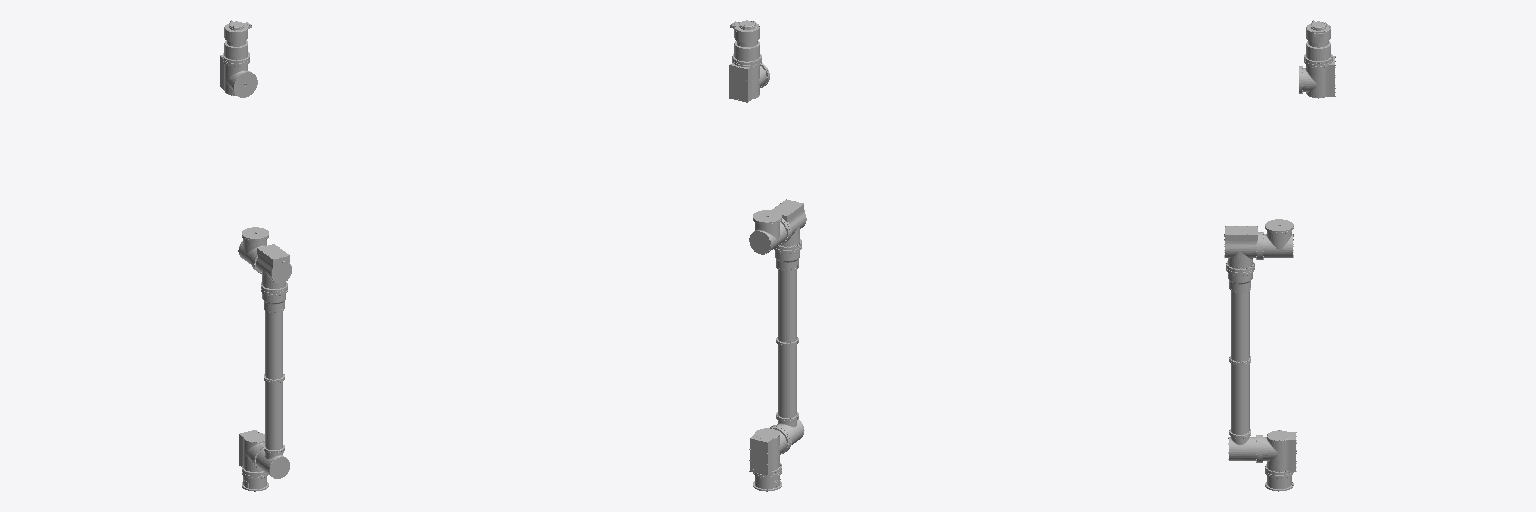
The robot description file, URDF, robot "KARM_EQM_CI":
<?xml version="1.0" encoding="utf-8"?>
<robot
  name="KARM_EQM_CI">
  <link name="world"/>
  <link
    name="base_link">
    <inertial>
      <origin
        xyz="-0.000591742275268121 -1.02012674185592E-10 0.0535383880868271"
        rpy="0 0 0" />
      <mass
        value="1.88184673348816" />
      <inertia
        ixx="0.00301244"
        ixy="0.00000000"
        ixz="0.00003346"
        iyy="0.00307717"
        iyz="0.00000000"
        izz="0.00420587" />
    </inertial>
    <visual>
      <origin
        xyz="0 0 0"
        rpy="0 0 0" />
      <geometry>
        <mesh
          filename="meshes/base_link.STL" />
      </geometry>
      <material
        name="">
        <color
          rgba="0.752941176470588 0.752941176470588 0.752941176470588 1" />
      </material>
    </visual>
    <collision>
      <origin
        xyz="0 0 0"
        rpy="0 0 0" />
      <geometry>
        <mesh
          filename="meshes/base_link.STL" />
      </geometry>
    </collision>
  </link>
  <link
    name="link1">
    <inertial>
      <origin
        xyz="-0.00018376 0.01320390 0.08155943"
        rpy="0 0 0" />
      <mass
        value="3.89927946847723" />
      <inertia
        ixx="0.02231887"
        ixy="0.00007515"
        ixz="0.00000458"
        iyy="0.01564646"
        iyz="0.00207988"
        izz="0.01525124" />
    </inertial>
    <visual>
      <origin
        xyz="0 0 0"
        rpy="0 0 0" />
      <geometry>
        <mesh
          filename="meshes/link1.STL" />
      </geometry>
      <material
        name="">
        <color
          rgba="0.752941176470588 0.752941176470588 0.752941176470588 1" />
      </material>
    </visual>
    <collision>
      <origin
        xyz="0 0 0"
        rpy="0 0 0" />
      <geometry>
        <mesh
          filename="meshes/link1.STL" />
      </geometry>
    </collision>
  </link>

  <link
    name="link2">
    <inertial>
      <origin
        xyz="0.456230697446304 7.05549804171151E-06 -0.0795407500329696"
        rpy="0 0 0" />
      <mass
        value="6.81815692996918" />
      <inertia
        ixx="0.01935641"
        ixy="0.00001065"
        ixz="-0.04808877"
        iyy="1.10200053"
        iyz="-0.00000028"
        izz="1.09700645" />
    </inertial>
    <visual>
      <origin
        xyz="0 0 0"
        rpy="0 0 0" />
      <geometry>
        <mesh
          filename="meshes/link2.STL" />
      </geometry>
      <material
        name="">
        <color
          rgba="0.752941176470588 0.752941176470588 0.752941176470588 1" />
      </material>
    </visual>
    <collision>
      <origin
        xyz="0 0 0"
        rpy="0 0 0" />
      <geometry>
        <mesh
          filename="meshes/link2.STL" />
      </geometry>
    </collision>
  </link>

  <link
    name="link3">
    <inertial>
      <origin
        xyz="-0.000226694330859439 -0.020921459624334 0.0905541182561733"
        rpy="0 0 0" />
      <mass
        value="3.88158998402123" />
      <inertia
        ixx="0.02300827"
        ixy="-0.00000994"
        ixz="-0.00007047"
        iyy="0.01797761"
        iyz="-0.00183015"
        izz="0.01369294" />
    </inertial>
    <visual>
      <origin
        xyz="0 0 0"
        rpy="0 0 0" />
      <geometry>
        <mesh
          filename="meshes/link3.STL" />
      </geometry>
      <material
        name="">
        <color
          rgba="0.752941176470588 0.752941176470588 0.752941176470588 1" />
      </material>
    </visual>
    <collision>
      <origin
        xyz="0 0 0"
        rpy="0 0 0" />
      <geometry>
        <mesh
          filename="meshes/link3.STL" />
      </geometry>
    </collision>
  </link>

  <link
    name="link4">
    <inertial>
      <origin
        xyz="0.0366928030010996 8.67952688967757E-08 -0.0682677736060728"
        rpy="0 0 0" />
      <mass
        value="3.80331860238697" />
      <inertia
        ixx="0.01256680"
        ixy="0.00000000"
        ixz="-0.00373077"
        iyy="0.01830578"
        iyz="0.00000000"
        izz="0.01426496" />
    </inertial>
    <visual>
      <origin
        xyz="0 0 0"
        rpy="0 0 0" />
      <geometry>
        <mesh
          filename="meshes/link4.STL" />
      </geometry>
      <material
        name="">
        <color
          rgba="0.752941176470588 0.752941176470588 0.752941176470588 1" />
      </material>
    </visual>
    <collision>
      <origin
        xyz="0 0 0"
        rpy="0 0 0" />
      <geometry>
        <mesh
          filename="meshes/link4.STL" />
      </geometry>
    </collision>
  </link>

  <link
    name="link5">
    <inertial>
      <origin
        xyz="0.000279666071933103 -0.0124604168307705 0.465622107218107"
        rpy="0 0 0" />
      <mass
        value="7.89770667143695" />
      <inertia
        ixx="0.72487102"
        ixy="0.00003467"
        ixz="-0.00048232"
        iyy="0.71723683"
        iyz="-0.03161062"
        izz="0.02532082" />
    </inertial>
    <visual>
      <origin
        xyz="0 0 0"
        rpy="0 0 0" />
      <geometry>
        <mesh
          filename="meshes/link5.STL" />
      </geometry>
      <material
        name="">
        <color
          rgba="0.752941176470588 0.752941176470588 0.752941176470588 1" />
      </material>
    </visual>
    <collision>
      <origin
        xyz="0 0 0"
        rpy="0 0 0" />
      <geometry>
        <mesh
          filename="meshes/link5.STL" />
      </geometry>
    </collision>
  </link>

  <link
    name="link6">
    <inertial>
      <origin
        xyz="0.03011107362379 -0.000225912685904172 0.0813060077503088"
        rpy="0 0 0" />
      <mass
        value="3.89927946847463" />
      <inertia
        ixx="0.01546330"
        ixy="0.00000029"
        ixz="0.00213129"
        iyy="0.02260225"
        iyz="-0.00006365"
        izz="0.01584475" />
    </inertial>
    <visual>
      <origin
        xyz="0 0 0"
        rpy="0 0 0" />
      <geometry>
        <mesh
          filename="meshes/link6.STL" />
      </geometry>
      <material
        name="">
        <color
          rgba="0.752941176470588 0.752941176470588 0.752941176470588 1" />
      </material>
    </visual>
    <collision>
      <origin
        xyz="0 0 0"
        rpy="0 0 0" />
      <geometry>
        <mesh
          filename="meshes/link6.STL" />
      </geometry>
    </collision>
  </link>

  <link
    name="link7">
    <inertial>
      <origin
        xyz="-1.03271284620634E-05 -9.44322398055419E-12 0.0329117576927667"
        rpy="0 0 0" />
      <mass
        value="1.88782431928023" />
      <inertia
        ixx="0.00297961"
        ixy="0.00000000"
        ixz="0.00000043"
        iyy="0.00297973"
        iyz="0.00000000"
        izz="0.00388977897747818" />
    </inertial>
    <visual>
      <origin
        xyz="0 0 0"
        rpy="0 0 0" />
      <geometry>
        <mesh
          filename="meshes/link7.STL" />
      </geometry>
      <material
        name="">
        <color
          rgba="0.752941176470588 0.752941176470588 0.752941176470588 1" />
      </material>
    </visual>
    <collision>
      <origin
        xyz="0 0 0"
        rpy="0 0 0" />
      <geometry>
        <mesh
          filename="meshes/link7.STL" />
      </geometry>
    </collision>
  </link>

  <link
    name="FT">
    <inertial>
      <origin
        xyz="0 0 0.015"
        rpy="0 0 0" />
      <mass
        value="0.20000000" />
      <inertia
        ixx="0.00005684"
        ixy="0.00000000"
        ixz="0.00000000"
        iyy="0.00005684"
        iyz="0.00000000"
        izz="0.00008409" />
    </inertial>
    <visual>
      <origin
        xyz="0 0 0"
        rpy="0 0 0" />
      <geometry>
        <mesh
          filename="meshes/FT.STL" />
      </geometry>
      <material
        name="">
        <color
          rgba="0.792156862745098 0.819607843137255 0.933333333333333 1" />
      </material>
    </visual>
    <collision>
      <origin
        xyz="0 0 0"
        rpy="0 0 0" />
      <geometry>
        <mesh
          filename="meshes/FT.STL" />
      </geometry>
    </collision>
  </link>

  <link
    name="TC">
    <inertial>
      <origin
        xyz="0.00258786 0.00104852 0.03197784"
        rpy="0 0 0" />
      <mass
        value="1.18950719" />
      <inertia
        ixx="0.00168824"
        ixy="0.00002691"
        ixz="-0.00002899"
        iyy="0.00154440"
        iyz="0.00000853"
        izz="0.00195688" />
    </inertial>
    <visual>
      <origin
        xyz="0 0 0"
        rpy="0 0 0" />
      <geometry>
        <mesh
          filename="meshes/TC.STL" />
      </geometry>
      <material
        name="">
        <color
          rgba="0.752941176470588 0.752941176470588 0.752941176470588 1" />
      </material>
    </visual>
    <collision>
      <origin
        xyz="0 0 0"
        rpy="0 0 0" />
      <geometry>
        <mesh
          filename="meshes/TC.STL" />
      </geometry>
    </collision>
  </link>

  <link
    name="Gripper">
    <inertial>
      <origin
        xyz="0.00002102 0.00012708 0.11310422"
        rpy="0 0 0" />
      <mass
        value="4.67761447" />
      <inertia
        ixx="0.02076872"
        ixy="-0.00040644"
        ixz="0.00000291"
        iyy="0.02129152"
        iyz="0.00002607"
        izz="0.01420707" />
    </inertial>
    <visual>
      <origin
        xyz="0 0 0"
        rpy="0 0 0" />
      <geometry>
        <mesh
          filename="meshes/Gripper.STL" />
      </geometry>
      <material
        name="">
        <color
          rgba="0.75294 0.75294 0.75294 1" />
      </material>
    </visual>
    <collision>
      <origin
        xyz="0 0 0"
        rpy="0 0 0" />
      <geometry>
        <mesh
          filename="meshes/Gripper.STL" />
      </geometry>
    </collision>
  </link>

  <link name="tcp">
      <inertial>
        <origin xyz="0 0 0"  rpy="0 0 0" />
        <mass value="0.0"/>
        <inertia  ixx="0.0"      ixy="0"      ixz="0"      iyy="0.0"      iyz="0"      izz="0.0" />
     </inertial>
  </link>


  <joint name="world_fixed" type="fixed">
    <parent link="world"/>
    <child link="base_link"/>
    <origin xyz="0 0 0" rpy="0 0 0"/>
    <axis xyz="0 0 1"/>
  </joint>

  <joint
    name="joint1"
    type="revolute">
    <origin
      xyz="0 0 0.087"
      rpy="0 0 3.141592" />
    <parent
      link="base_link" />
    <child
      link="link1" />
    <axis
      xyz="0 0 1" />
    <limit
      lower="-4.0"
      upper="4.0"
      effort="500"
      velocity="10" />
  </joint>

  <joint
    name="joint2"
    type="revolute">
    <origin
      xyz="0 0.097 0.112"
      rpy="1.5708 -1.5708 0" />
    <parent
      link="link1" />
    <child
      link="link2" />
    <axis
      xyz="0 0 1" />
    <limit
      lower="-4.0"
      upper="4.0"
      effort="500"
      velocity="10" />
  </joint>

  <joint
    name="joint3"
    type="revolute">
    <origin
      xyz="0.988 0 -0.095"
      rpy="-1.5708 0 -1.5708" />
    <parent
      link="link2" />
    <child
      link="link3" />
    <axis
      xyz="0 0 1" />
    <limit
      lower="-4.0"
      upper="4.0"
      effort="500"
      velocity="10" />
  </joint>

  <joint
    name="joint4"
    type="revolute">
    <origin
      xyz="0 -0.097 0.112"
      rpy="-1.5708 -1.5708 0" />
    <parent
      link="link3" />
    <child
      link="link4" />
    <axis
      xyz="0 0 -1" />
    <limit
      lower="-4.0"
      upper="4.0"
      effort="500"
      velocity="10" />
  </joint>

  <joint
    name="joint5"
    type="revolute">
    <origin
      xyz="0.114 0 -0.095"
      rpy="1.5708 0 1.5708" />
    <parent
      link="link4" />
    <child
      link="link5" />
    <axis
      xyz="0 0 1" />
    <limit
      lower="-4.0"
      upper="4.0"
      effort="500"
      velocity="10" />
  </joint>

  <joint
    name="joint6"
    type="revolute">
    <origin
      xyz="0 -0.097 0.786"
      rpy="-1.5704 -1.5708 3.1412" />
    <parent
      link="link5" />
    <child
      link="link6" />
    <axis
      xyz="0 0 1" />
    <limit
      lower="-4.0"
      upper="4.0"
      effort="500"
      velocity="10" />
  </joint>

  <joint
    name="joint7"
    type="revolute">
    <origin
      xyz="0.114 0 0.095"
      rpy="-1.5708 0 -1.5708" />
    <parent
      link="link6" />
    <child
      link="link7" />
    <axis
      xyz="0 0 1" />
    <limit
      lower="-4.0"
      upper="4.0"
      effort="500"
      velocity="10" />
  </joint>

  <joint
    name="FT_fixed"
    type="fixed">
    <origin
      xyz="0 0 0.083"
      rpy="0 0 0" />
    <parent
      link="link7" />
    <child
      link="FT" />
    <axis
      xyz="0 0 0" />
  </joint>

  <joint
    name="TC_fixed"
    type="fixed">
    <origin
      xyz="0 0 0.03"
      rpy="0 0 0" />
    <parent
      link="FT" />
    <child
      link="TC" />
    <axis
      xyz="0 0 0" />
  </joint>

  <joint
    name="Gripper_fixed"
    type="fixed">
    <origin
      xyz="0 0 0.057575"
      rpy="0 0 0" />
    <parent
      link="TC" />
    <child
      link="Gripper" />
    <axis
      xyz="0 0 0" />
  </joint>

  <joint name="tcp_fixed" type="fixed">
    <parent link="Gripper"/>
    <child link="tcp"/>
    <origin xyz="0 0 0.23725" rpy="0 0 0"/>
  </joint>

</robot>

--- Facts derived from the render (not from the file) ---
The picture shows the robot from 3 angles, left to right: view 1: azimuth 30°, elevation 25°; view 2: azimuth 150°, elevation 25°; view 3: azimuth 270°, elevation 25°; orthographic projection.
Model KARM_EQM_CI with 13 links and 12 joints (7 revolute, 5 fixed), rooted at world, posed every joint at zero.
Links seen in each view (by area): view 1: link2, link3, link6, link1, link4, TC; view 2: link2, link1, link4, link6, link3, TC; view 3: link2, link3, link1, link4, link6, TC.
Boxes of the visible links, x1=… form: link2: x1=253, y1=289, x2=289, y2=478; link3: x1=253, y1=244, x2=291, y2=292; link6: x1=220, y1=55, x2=257, y2=97; link1: x1=239, y1=430, x2=266, y2=475; link4: x1=238, y1=227, x2=268, y2=269; TC: x1=224, y1=20, x2=251, y2=46; link2: x1=771, y1=246, x2=804, y2=449; link1: x1=749, y1=426, x2=789, y2=475; link4: x1=749, y1=210, x2=789, y2=254; link6: x1=729, y1=60, x2=769, y2=102; link3: x1=772, y1=199, x2=806, y2=249; TC: x1=730, y1=20, x2=759, y2=46; link2: x1=1226, y1=267, x2=1259, y2=462; link3: x1=1224, y1=226, x2=1259, y2=272; link1: x1=1260, y1=430, x2=1296, y2=474; link4: x1=1260, y1=219, x2=1293, y2=259; link6: x1=1299, y1=56, x2=1335, y2=98; TC: x1=1306, y1=20, x2=1330, y2=47.
Bounding box of the posed robot: 0.1485 × 0.5485 × 2.51 m (x, y, z).
9 mesh visuals loaded from 11 distinct referenced files (9 binary STL); not drawn: 2 (reference not matched to a file when rendering).
